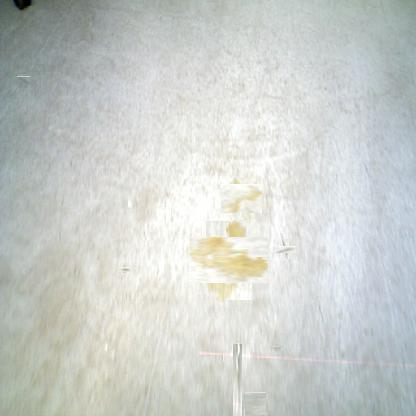liquid: (198, 229, 260, 292), (224, 181, 259, 217), (232, 343, 242, 416), (243, 393, 267, 416)
mark: (278, 242, 292, 257), (317, 302, 325, 323), (18, 75, 29, 87), (272, 342, 282, 352), (120, 265, 129, 274), (127, 291, 130, 303), (158, 13, 162, 21)
